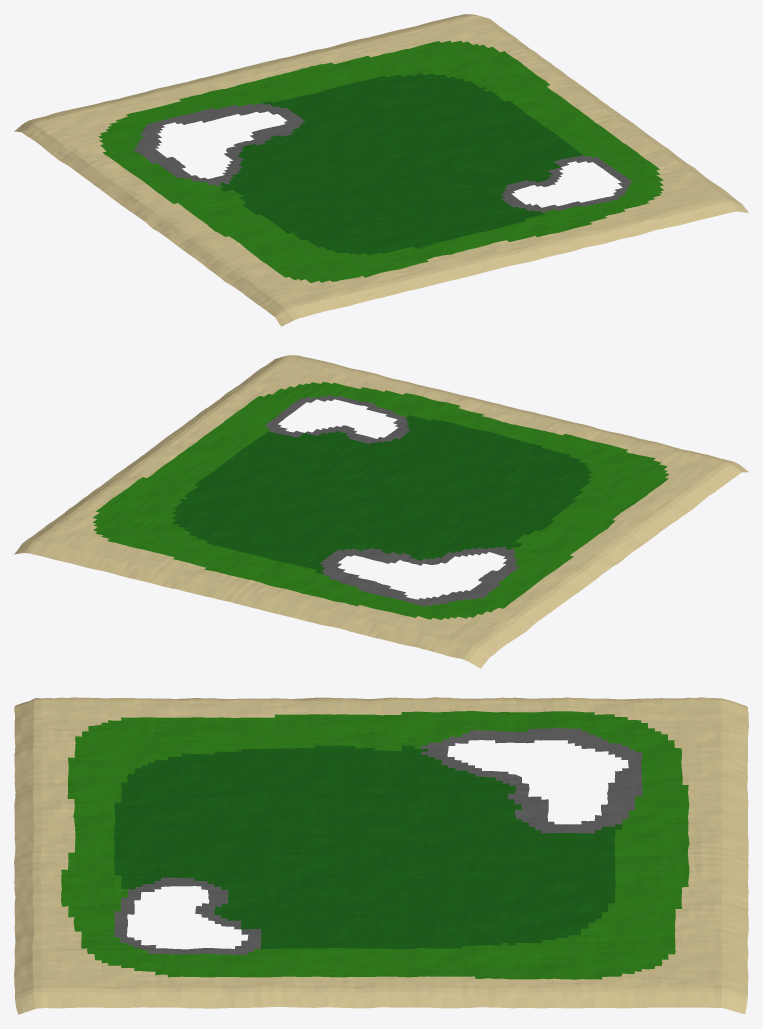
File: terrain.fbx
3 renders of one model, top to bottom at view 1: azimuth 30°, elevation 25°; view 2: azimuth 150°, elevation 25°; view 3: azimuth 270°, elevation 25°, orthographic. The views are drawn at different scales.
Visible parts, largest first — view 1: Terrain; view 2: Terrain; view 3: Terrain.
Part boxes in pixels (bbox=[...]): Terrain: bbox=[14, 14, 748, 326]; Terrain: bbox=[14, 355, 748, 668]; Terrain: bbox=[14, 697, 748, 1014].
Size of the model in its own units: 200 by 5.34 by 200.
